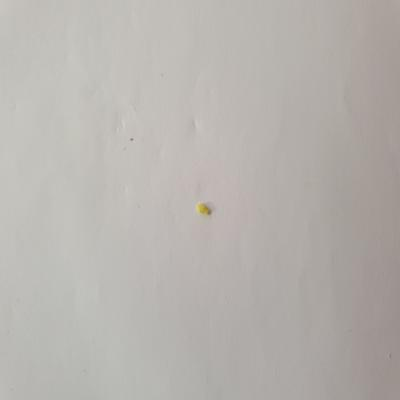plastic: (193, 199, 217, 218)
